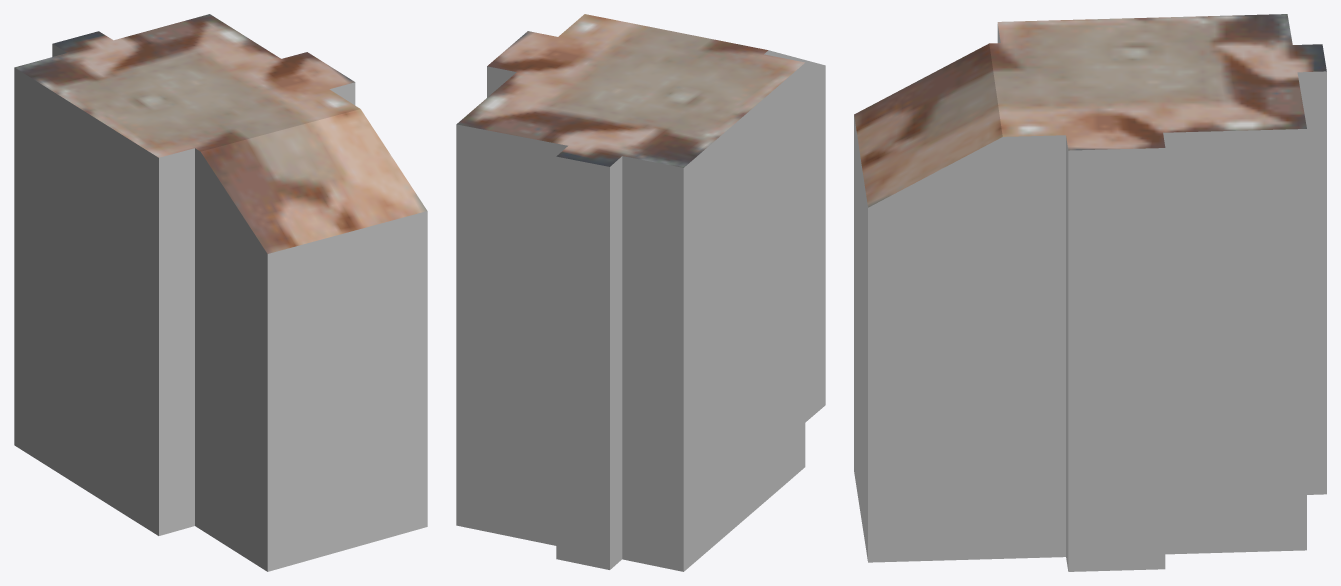
Rendered from DEBW_0010007Tx8Q.gltf.
3 renders of one model, left to right at view 1: azimuth 30°, elevation 25°; view 2: azimuth 150°, elevation 25°; view 3: azimuth 270°, elevation 25°, orthographic. The views are drawn at different scales.
Visible parts, largest first — view 1: Z_UP; view 2: Z_UP; view 3: Z_UP.
Boxes of the visible parts, box(x1,y1,x2,y2) form: Z_UP: box(14, 14, 427, 571); Z_UP: box(456, 14, 825, 571); Z_UP: box(854, 14, 1326, 571).
Bounding box in the file's own units: 10.83 × 16.09 × 16.22.
2 materials, 1 textured.
